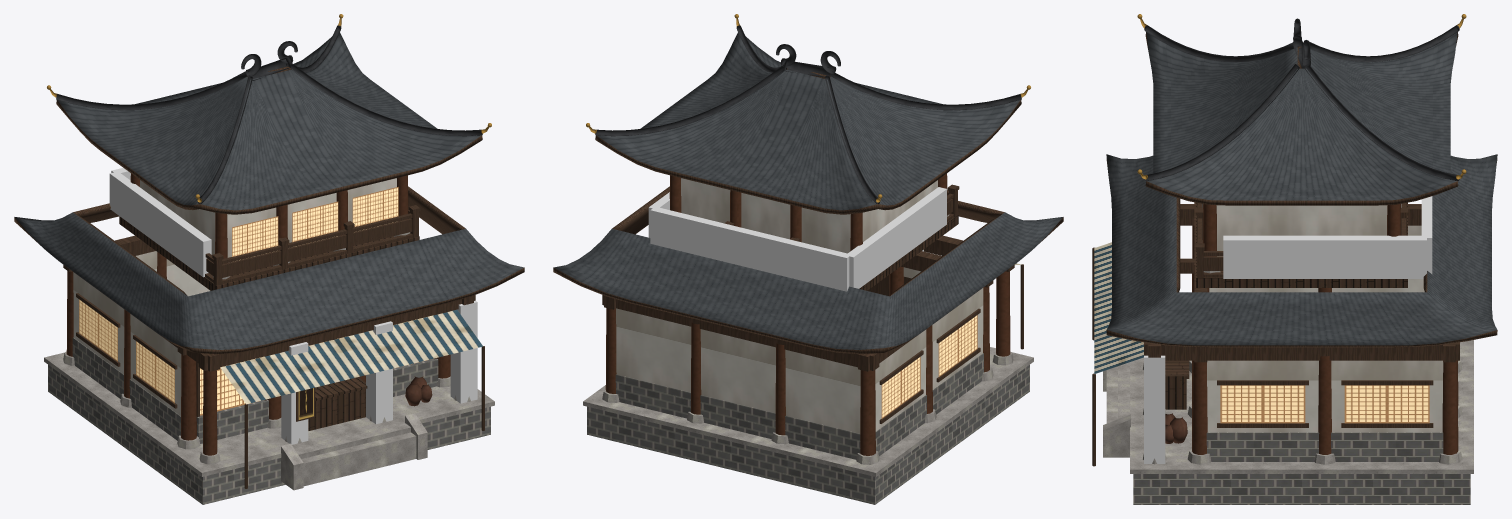
File: shophouse_b.glb
3 views of the same model, side by side, from view 1: azimuth 30°, elevation 25°; view 2: azimuth 150°, elevation 25°; view 3: azimuth 270°, elevation 25° (orthographic). The views are drawn at different scales.
Parts seen in each view (by area): view 1: Shop2Roof, Shop2LowSkirt, Awning, Shop2PodiumCap, Shop2PodiumBase, Shop2BalconyBalustrade, Shop2Dado, Shop2RoofRidges, Shop2Columns, Shop2Stairsfront, Shop2BalconyRail-convcolonly.003, Shop2Walls (+15 smaller); view 2: Shop2Roof, Shop2LowSkirt, Shop2Walls, Shop2PodiumBase, Shop2Dado, Shop2BalconyRail-convcolonly.002, Shop2Columns, Shop2PodiumCap, Shop2UpperWalls, Shop2RoofRidges, Shop2BalconyRail-convcolonly.003, Shop2Beams (+5 smaller); view 3: Shop2Roof, Shop2LowSkirt, Shop2PodiumBase, Shop2Walls, Shop2BalconyRail-convcolonly.001, Shop2PodiumCap, Shop2Lattice, Shop2Dado, Shop2Beams, Shop2UpperWalls, Shop2RoofRidges, Shop2Columns (+13 smaller).
Boxes of the visible parts, box(x1,y1,x2,y2) form: Shop2Roof: box(56, 31, 482, 214); Shop2LowSkirt: box(14, 186, 524, 354); Awning: box(220, 310, 483, 404); Shop2PodiumCap: box(44, 352, 494, 476); Shop2PodiumBase: box(48, 365, 490, 504); Shop2BalconyBalustrade: box(205, 205, 420, 285); Shop2Dado: box(72, 337, 438, 443); Shop2RoofRidges: box(56, 25, 482, 203); Shop2Columns: box(66, 252, 450, 455); Shop2Stairsfront: box(295, 423, 416, 486); Shop2BalconyRail-convcolonly.003: box(109, 172, 211, 277); Shop2Walls: box(73, 251, 210, 415); Shop2Roof: box(595, 31, 1021, 214); Shop2LowSkirt: box(553, 186, 1063, 354); Shop2Walls: box(616, 267, 983, 433); Shop2PodiumBase: box(587, 365, 1029, 504); Shop2Dado: box(615, 353, 983, 459); Shop2BalconyRail-convcolonly.002: box(650, 207, 851, 291); Shop2Columns: box(605, 266, 1010, 455); Shop2PodiumCap: box(583, 347, 1033, 476); Shop2UpperWalls: box(681, 178, 937, 253); Shop2RoofRidges: box(595, 25, 1021, 203); Shop2BalconyRail-convcolonly.003: box(845, 187, 946, 288); Shop2Beams: box(602, 235, 1014, 371); Shop2Roof: box(1145, 32, 1458, 205); Shop2LowSkirt: box(1106, 154, 1497, 347); Shop2PodiumBase: box(1133, 474, 1470, 504); Shop2Walls: box(1207, 225, 1443, 432); Shop2BalconyRail-convcolonly.001: box(1223, 235, 1426, 278); Shop2PodiumCap: box(1130, 340, 1473, 473); Shop2Lattice: box(1220, 385, 1429, 423); Shop2Dado: box(1206, 432, 1443, 461); Shop2Beams: box(1144, 202, 1459, 362); Shop2UpperWalls: box(1216, 205, 1387, 256); Shop2RoofRidges: box(1144, 18, 1459, 180); Shop2Columns: box(1192, 225, 1458, 454).
Size of what is drawn, in the model's own units: 11.72 by 12.37 by 11.41.
Materials: 14 (14 with a texture image).
